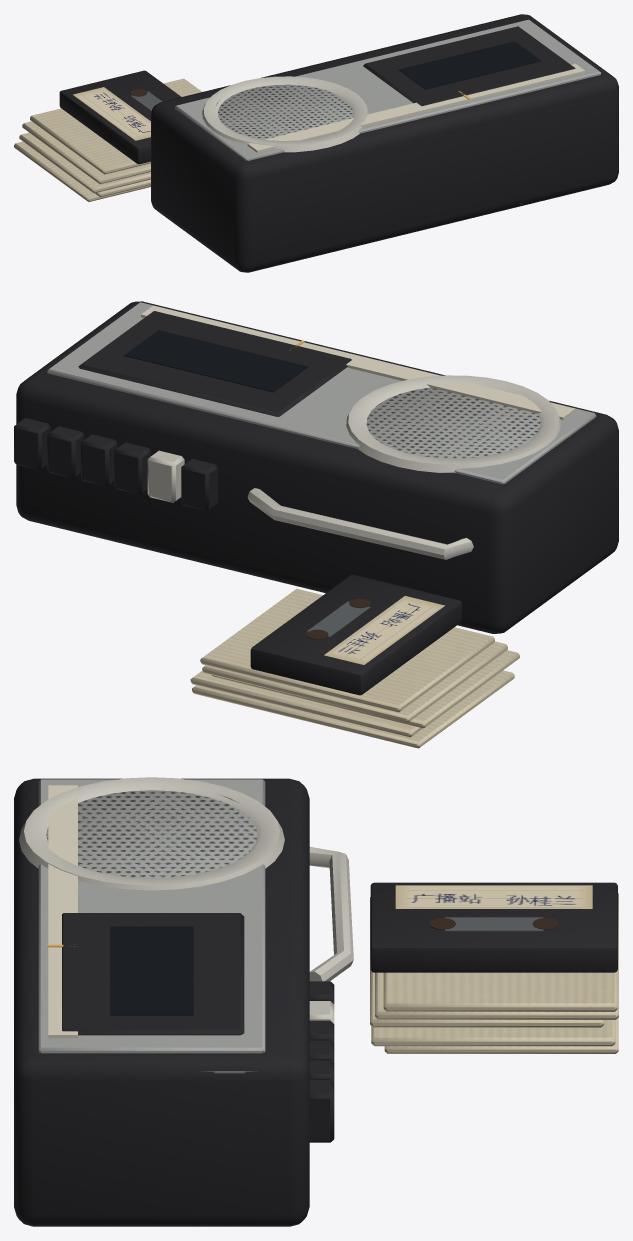
File: LSB_ENV_PRP_TapeRecorder_v01.fbx
3 renders of one model, top to bottom at view 1: azimuth 30°, elevation 25°; view 2: azimuth 150°, elevation 25°; view 3: azimuth 270°, elevation 25°, orthographic. The views are drawn at different scales.
Visible parts, largest first — view 1: Recorder, DrawerClutter, Tape; view 2: Recorder, DrawerClutter, Tape; view 3: Recorder, Tape, DrawerClutter.
Boxes of the visible parts, x1,y1,x2,y2 form: Recorder: (151,14,618,272); DrawerClutter: (14,78,201,201); Tape: (59,70,181,164); Recorder: (14,301,618,633); DrawerClutter: (190,588,519,748); Tape: (250,574,461,695); Recorder: (14,777,353,1226); Tape: (370,882,617,972); DrawerClutter: (370,893,618,1053).
Size of the model in its own units: 0.305 by 0.0824 by 0.2456.
